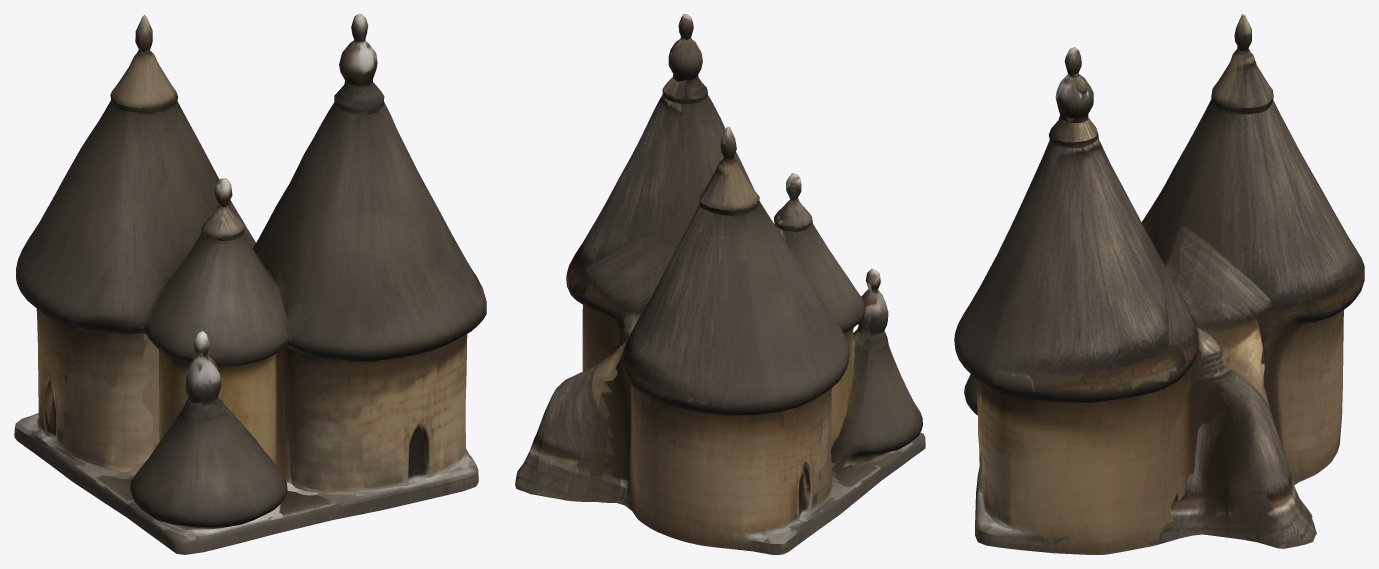
The model's file is etiopia_monasterio.glb.
The picture shows the model from 3 angles, left to right: view 1: azimuth 30°, elevation 25°; view 2: azimuth 150°, elevation 25°; view 3: azimuth 270°, elevation 25°; orthographic projection. The views are drawn at different scales.
Visible parts, largest first — view 1: geometry_0; view 2: geometry_0; view 3: geometry_0.
Boxes of the visible parts, x1,y1,x2,y2 form: geometry_0: (14,14,486,554); geometry_0: (515,14,925,554); geometry_0: (954,14,1364,554).
Bounding box in the file's own units: 3.4 × 4.2 × 3.39.
Materials: 1 (1 with a texture image).
